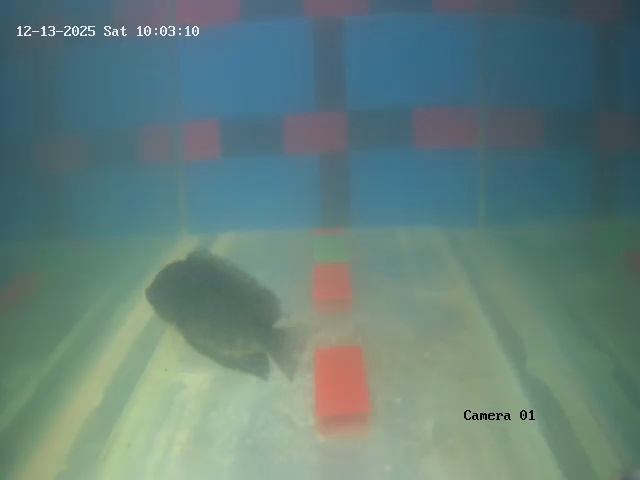fish: (147, 251, 278, 371)
